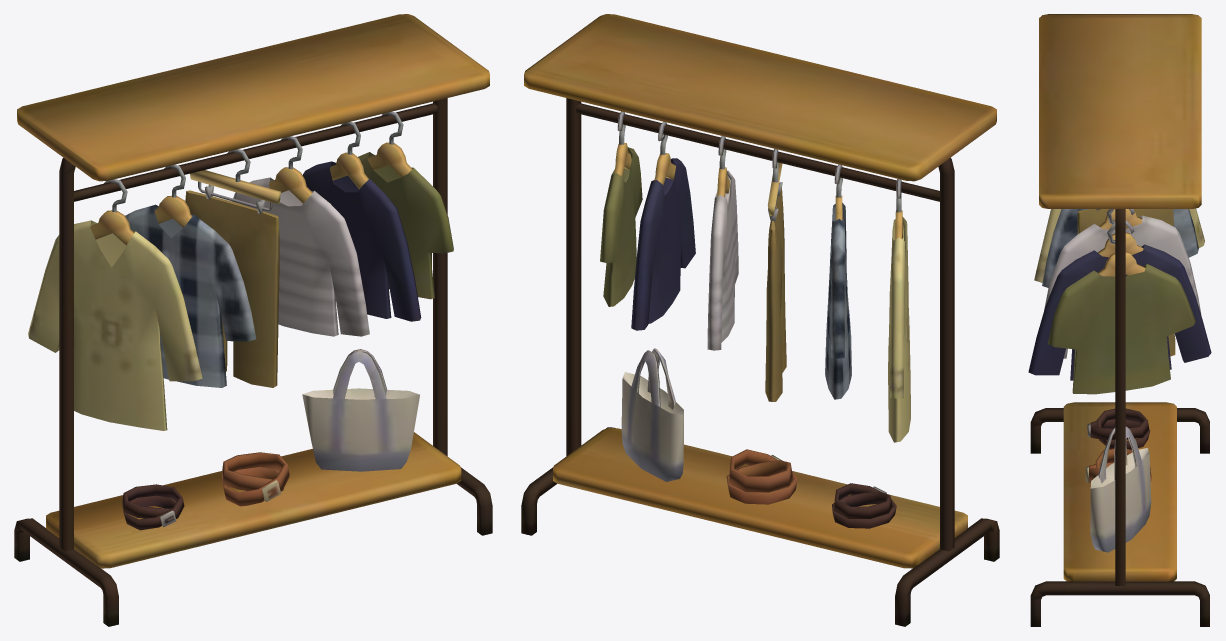
3 views of the same model, side by side, from view 1: azimuth 30°, elevation 25°; view 2: azimuth 150°, elevation 25°; view 3: azimuth 270°, elevation 25° (orthographic). The views are drawn at different scales.
Size of the model in its own units: 16.42 by 18 by 6.92.
1 material, 1 textured.
